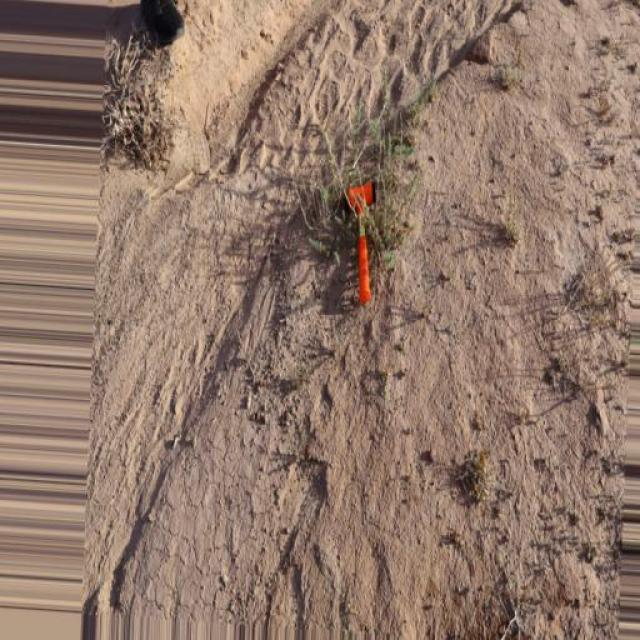mallet: (347, 179, 378, 305)
